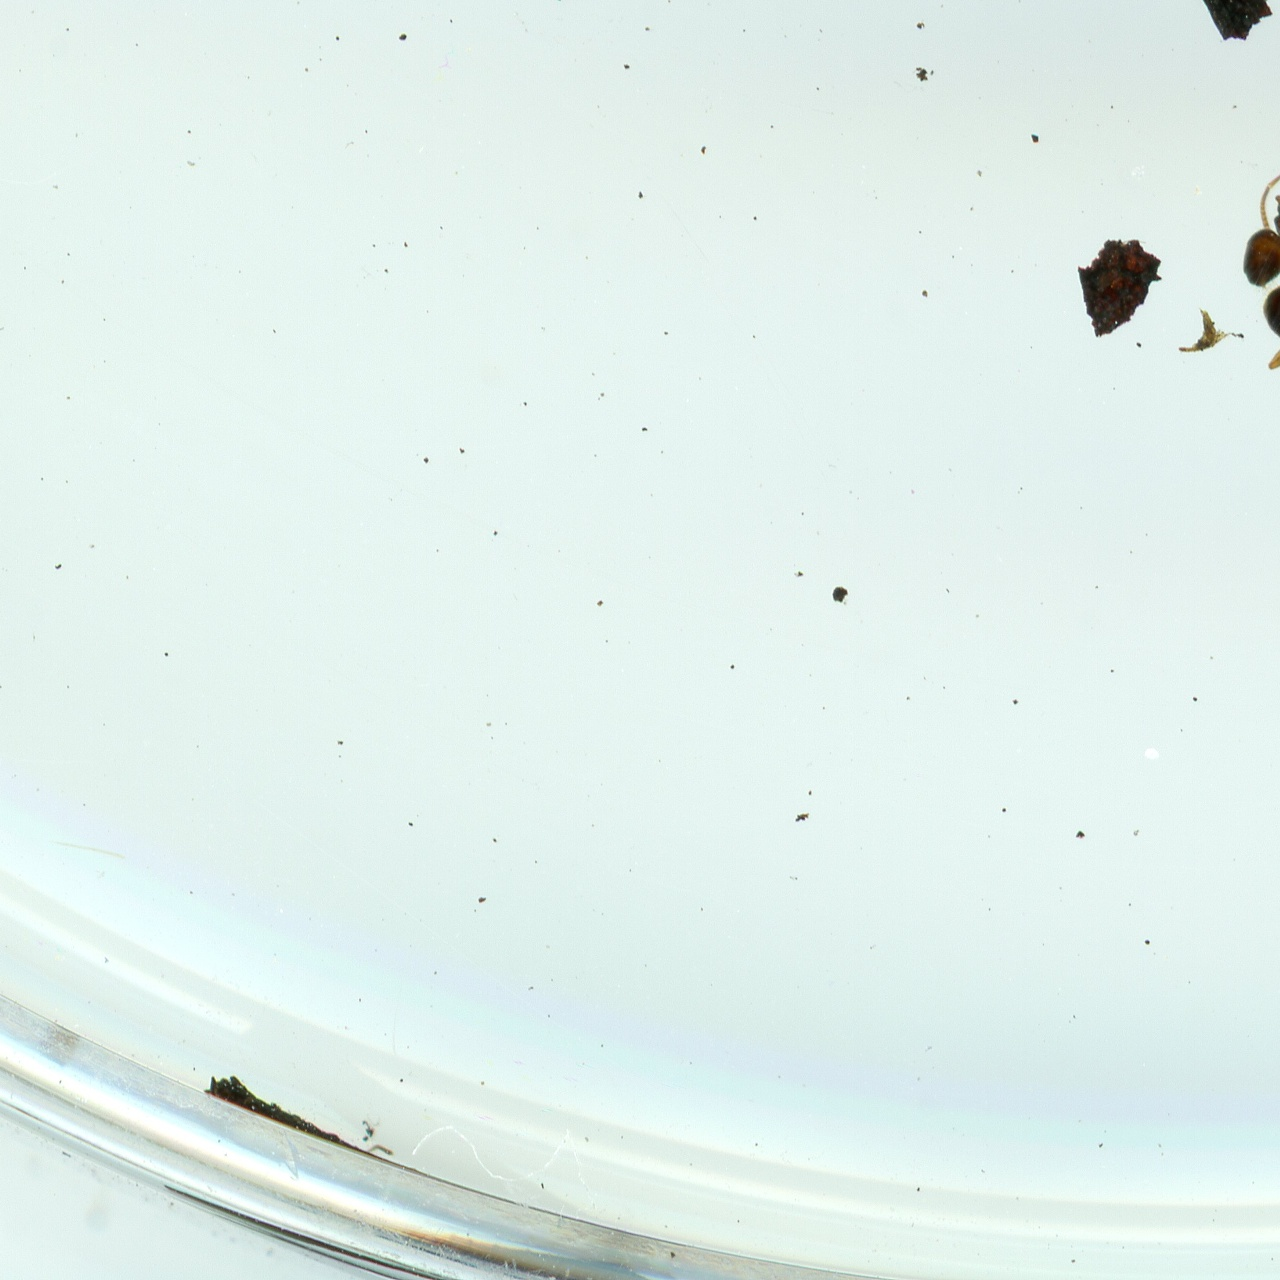arthropod: (1240, 121, 1280, 288), (1258, 256, 1280, 397)
